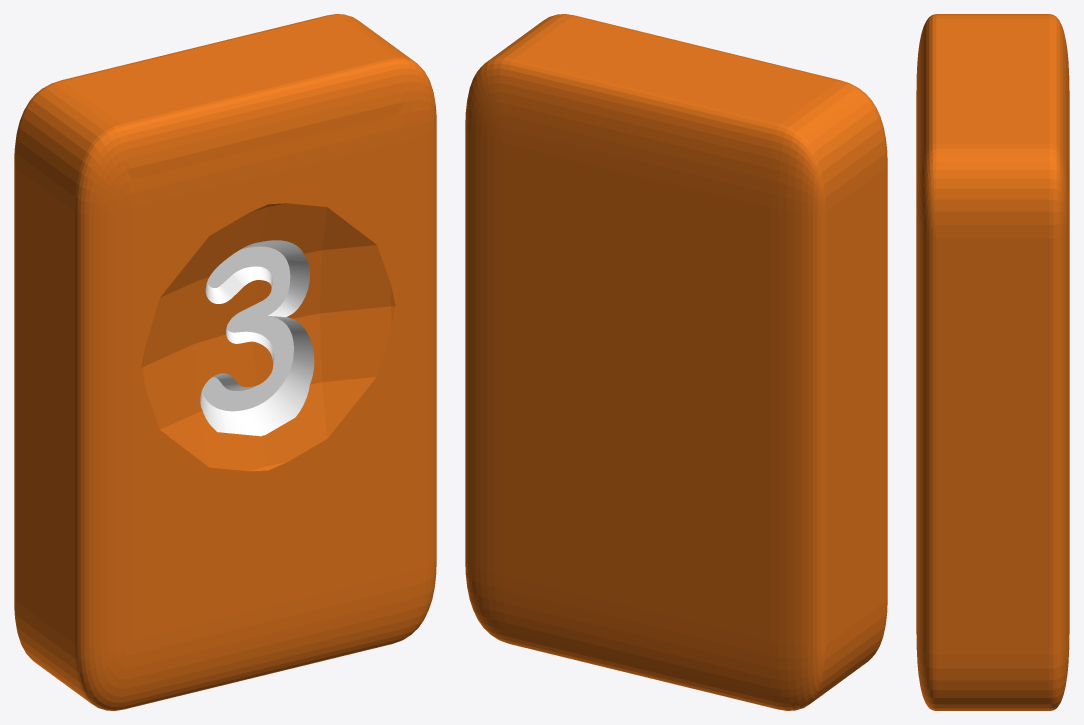
File: Rummikub Card 3.FBX
3 views of the same model, side by side, from view 1: azimuth 30°, elevation 25°; view 2: azimuth 150°, elevation 25°; view 3: azimuth 270°, elevation 25° (orthographic). The views are drawn at different scales.
Visible parts, largest first — view 1: CardModel; view 2: CardModel; view 3: CardModel.
Boxes of the visible parts, left/top/right/bottom form: CardModel: left=14, top=14, right=436, bottom=710; CardModel: left=465, top=14, right=887, bottom=710; CardModel: left=916, top=14, right=1069, bottom=710.
Size of the model in its own units: 44.87 by 69.66 by 17.19.
